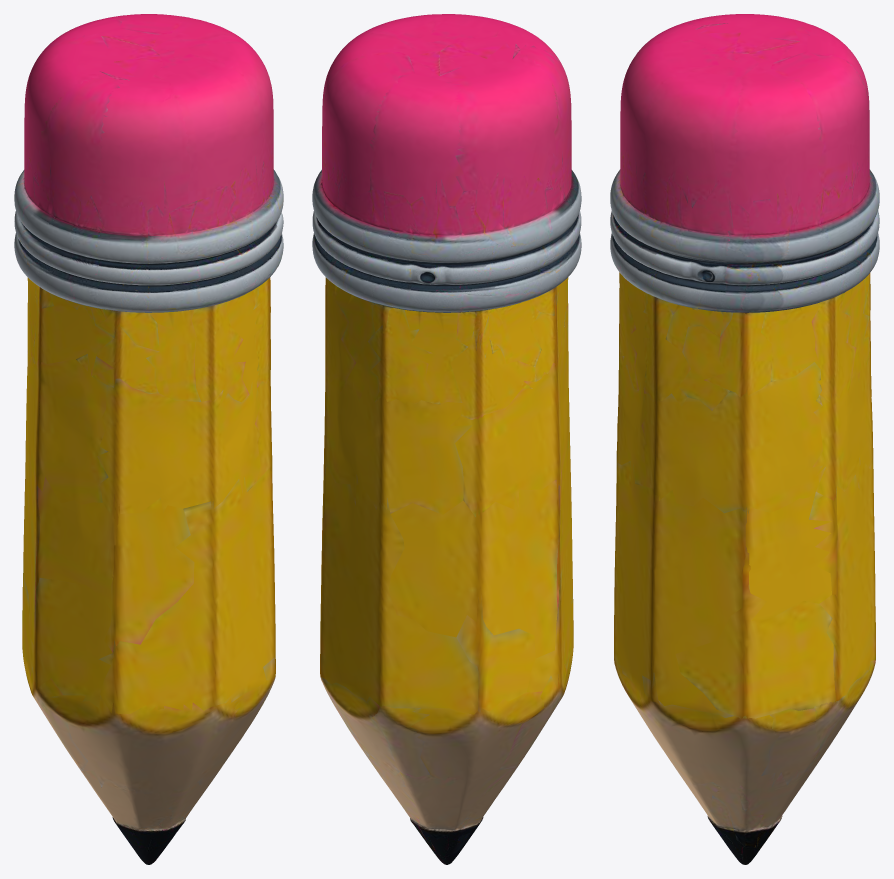
3 views of the same model, side by side, from view 1: azimuth 30°, elevation 25°; view 2: azimuth 150°, elevation 25°; view 3: azimuth 270°, elevation 25° (orthographic).
Bounding box in the file's own units: 0.5716 × 1.9 × 0.5716.
1 material, 1 textured.
